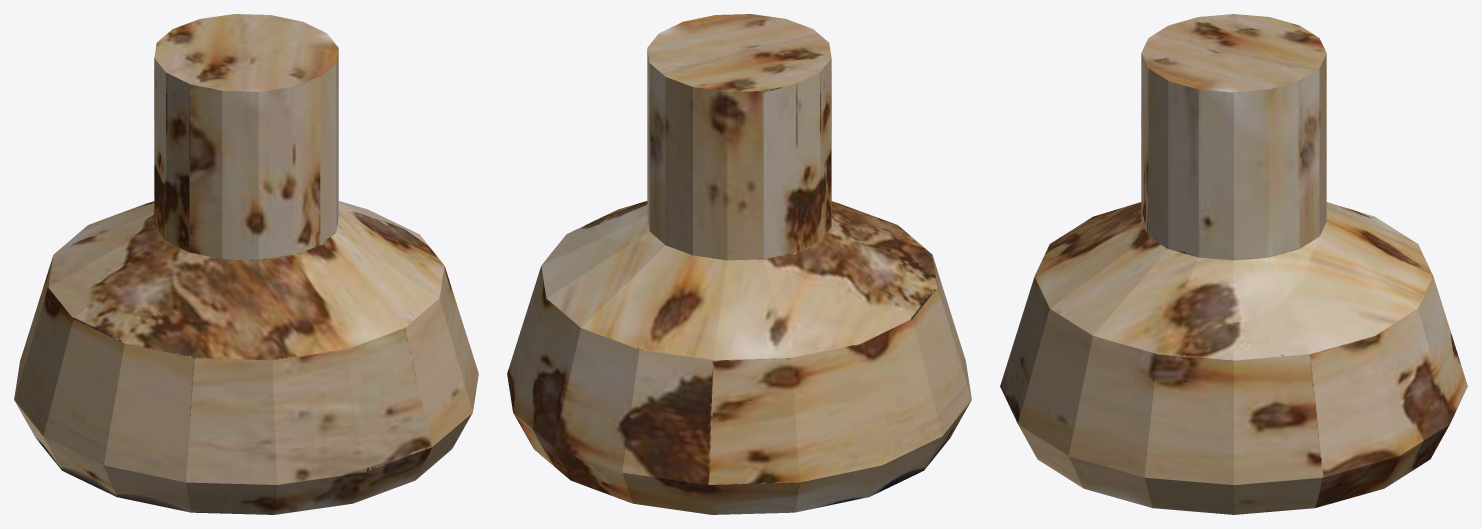
File: shower_head.dae
The picture shows the model from 3 angles, left to right: view 1: azimuth 30°, elevation 25°; view 2: azimuth 150°, elevation 25°; view 3: azimuth 270°, elevation 25°; orthographic projection.
Parts seen in each view (by area): view 1: showehead; view 2: showehead; view 3: showehead.
Part boxes in pixels (x1,y1,x2,y2): showehead: [14, 14, 478, 514]; showehead: [507, 14, 971, 514]; showehead: [1000, 14, 1467, 514].
Bounding box in the file's own units: 0.8432 × 0.8432 × 0.7847.
Materials: 1 (1 with a texture image).
